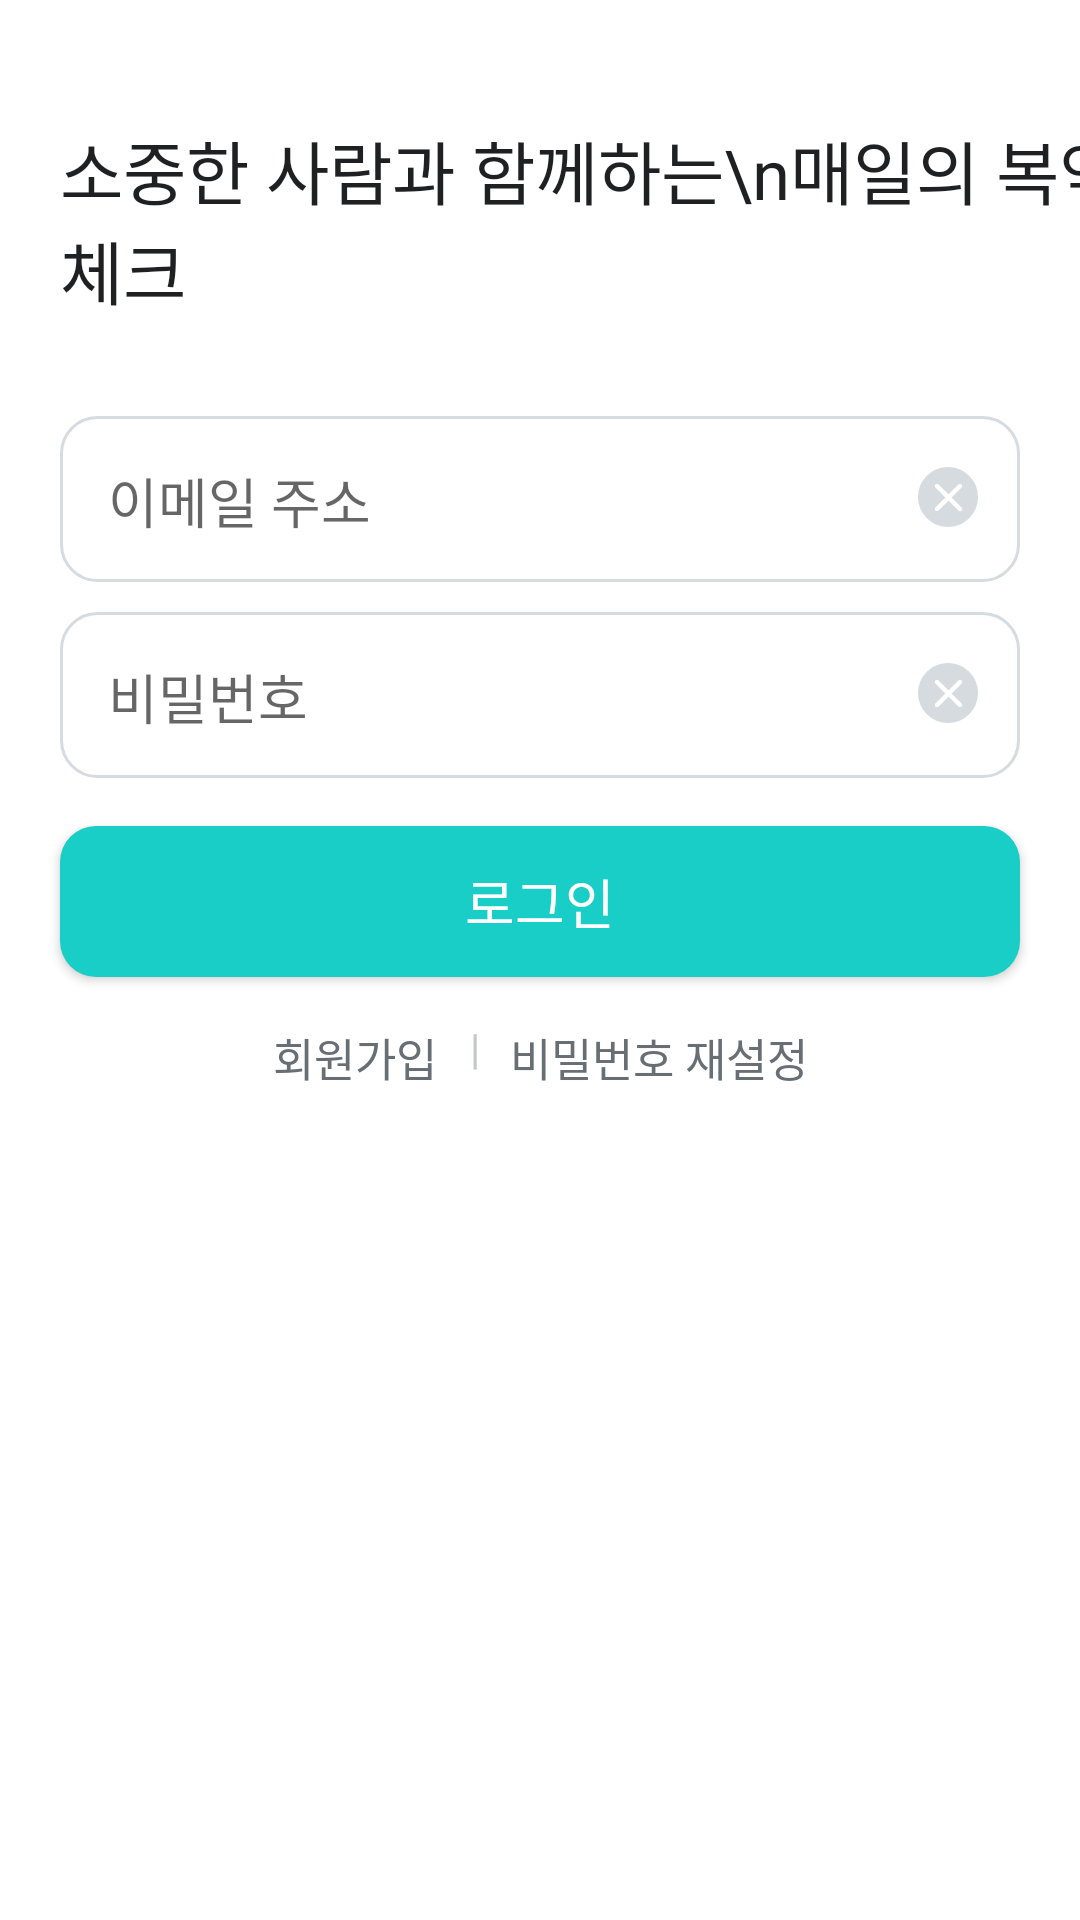

Named icons in this screenshot (1080x1920) and their bounding boxes, (x1, y1, x2, y2):
text close: (918, 467, 978, 527), (918, 663, 978, 723)
